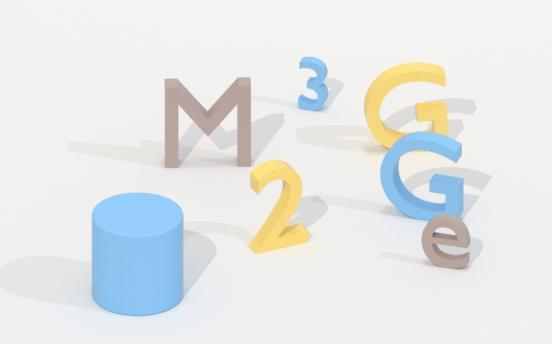chu_khoi: (164, 77, 251, 167), (380, 132, 463, 220), (364, 62, 445, 148), (422, 215, 470, 268)
so_khoi: (249, 160, 308, 252), (297, 56, 328, 110)
tru: (92, 193, 183, 314)
